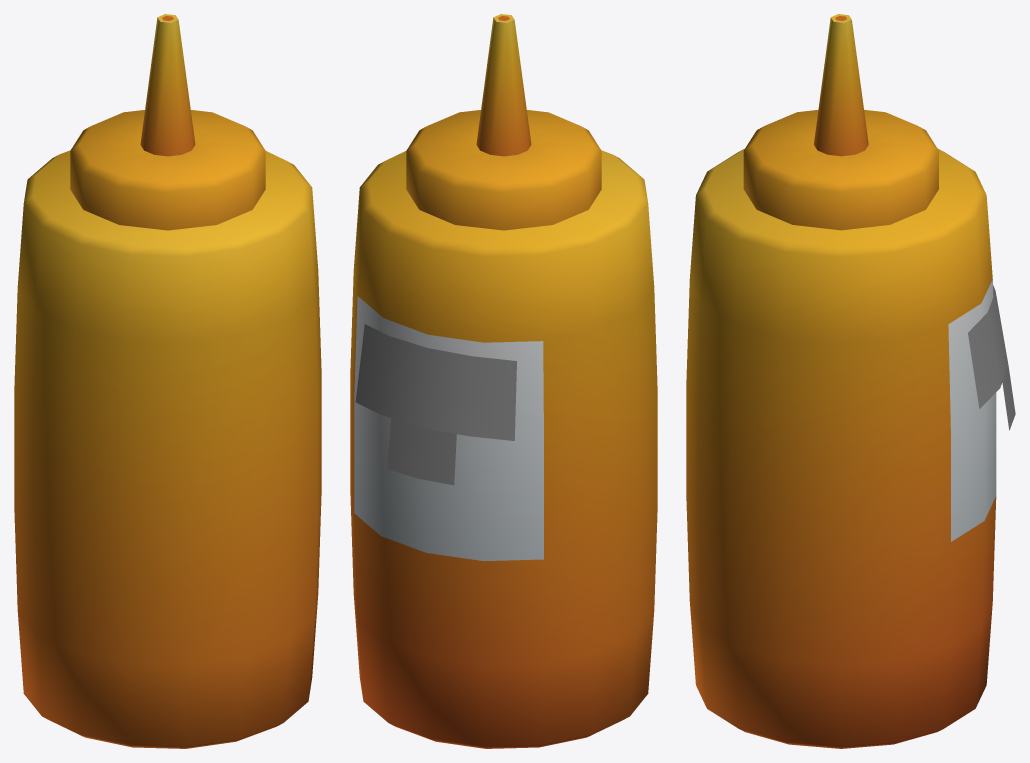
The model's file is ketchup_yellow_smile.fbx.
The picture shows the model from 3 angles, left to right: view 1: azimuth 30°, elevation 25°; view 2: azimuth 150°, elevation 25°; view 3: azimuth 270°, elevation 25°; orthographic projection.
Visible parts, largest first — view 1: sauce_002; view 2: sauce_002, smile; view 3: sauce_002, smile.
Boxes of the visible parts, x1,y1,x2,y2 form: sauce_002: [14, 14, 321, 748]; sauce_002: [350, 14, 657, 748]; smile: [355, 324, 516, 485]; sauce_002: [686, 14, 996, 748]; smile: [968, 285, 1015, 430].
Bounding box in the file's own units: 79.26 × 190 × 84.21.
